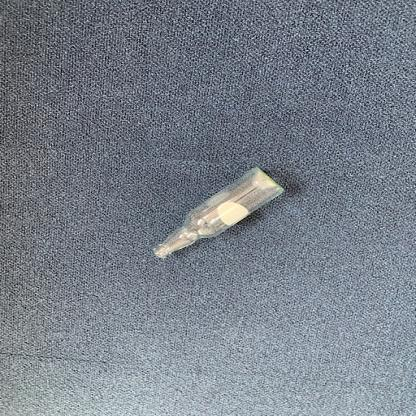trash: (150, 166, 291, 262)
